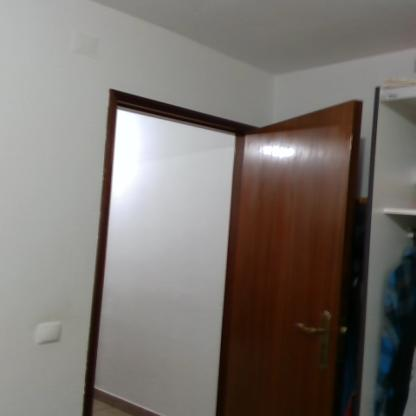open: (80, 86, 378, 416)
